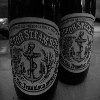beer: (9, 2, 67, 100)
